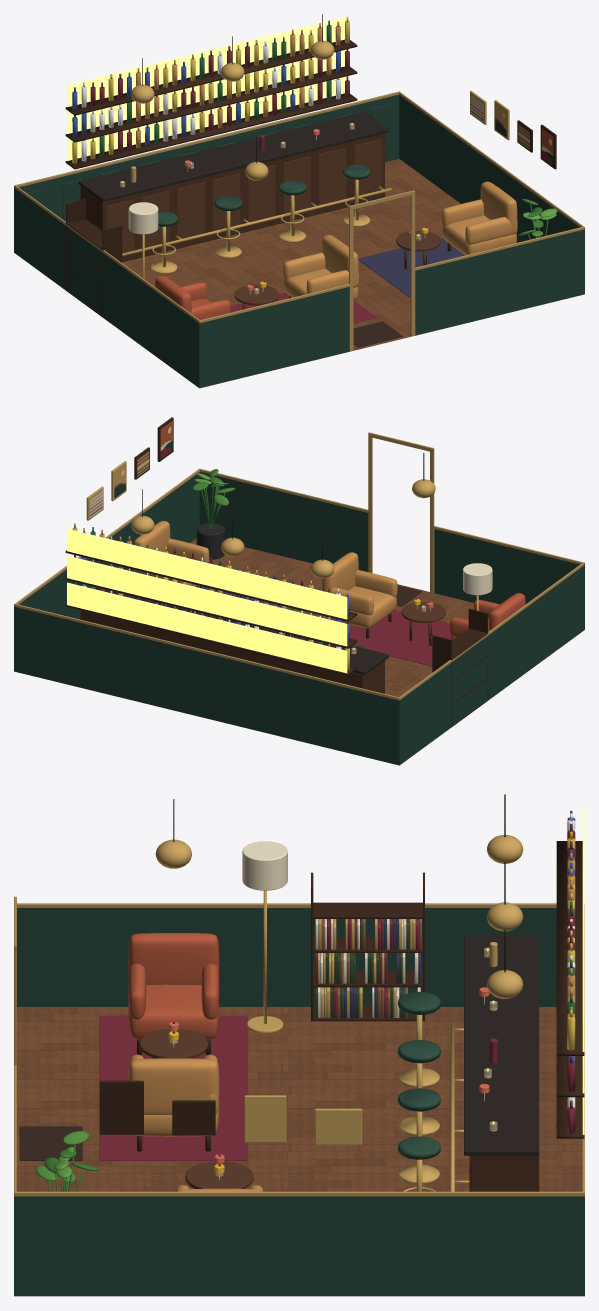
Rendered from place_drinks-Bwn5xce0.glb.
3 renders of one model, top to bottom at view 1: azimuth 30°, elevation 25°; view 2: azimuth 150°, elevation 25°; view 3: azimuth 270°, elevation 25°, orthographic. The views are drawn at different scales.
Visible parts, largest first — view 1: Bar_bar, Wall_shelves_bottle-shelves, Floor_place, Tile_wainscot_west, Tile_wainscot_south1, Tile_wainscot_south0, Wall_shelves_bottle-shelves_glow, Tile_wainscot_east, Tile_wainscot_north, Armchair_armchair-3, Stools_stools, Armchair_armchair-2 (+17 smaller); view 2: Tile_wainscot_north, Wall_shelves_bottle-shelves_glow, Tile_wainscot_west, Tile_wainscot_south1, Tile_wainscot_panels, Tile_wainscot_south0, Floor_place, Bar_bar, Tile_wainscot_east, Wall_shelves_bottle-shelves, Armchair_armchair-2, Rug_rug-1 (+13 smaller); view 3: Tile_wainscot_east, Floor_place, Tile_wainscot_west, Bar_bar, MangaShelf_bookshelf, Rug_rug-1, Armchair_armchair-1, Wall_shelves_bottle-shelves, Wall_frames_frames-east, Stools_stools, Armchair_armchair-2, Tile_rail_east (+11 smaller).
Part boxes in pixels (left/top/right/bottom): Bar_bar: left=78, top=111, right=391, bottom=262; Wall_shelves_bottle-shelves: left=65, top=17, right=357, bottom=169; Floor_place: left=15, top=159, right=584, bottom=388; Tile_wainscot_west: left=14, top=188, right=199, bottom=387; Tile_wainscot_south1: left=415, top=227, right=584, bottom=335; Tile_wainscot_south0: left=199, top=287, right=349, bottom=388; Wall_shelves_bottle-shelves_glow: left=67, top=16, right=346, bottom=160; Tile_wainscot_east: left=399, top=95, right=579, bottom=242; Tile_wainscot_north: left=14, top=95, right=399, bottom=252; Armchair_armchair-3: left=441, top=181, right=517, bottom=255; Stools_stools: left=151, top=164, right=370, bottom=273; Armchair_armchair-2: left=283, top=235, right=358, bottom=300; Tile_wainscot_north: left=14, top=604, right=399, bottom=765; Wall_shelves_bottle-shelves_glow: left=67, top=529, right=347, bottom=673; Tile_wainscot_west: left=399, top=565, right=584, bottom=764; Tile_wainscot_south1: left=199, top=472, right=368, bottom=571; Tile_wainscot_panels: left=24, top=617, right=389, bottom=752; Tile_wainscot_south0: left=434, top=529, right=584, bottom=629; Floor_place: left=15, top=538, right=583, bottom=764; Bar_bar: left=80, top=588, right=388, bottom=693; Tile_wainscot_east: left=19, top=472, right=199, bottom=619; Wall_shelves_bottle-shelves: left=65, top=523, right=357, bottom=675; Armchair_armchair-2: left=321, top=552, right=397, bottom=638; Rug_rug-1: left=326, top=610, right=451, bottom=666; Tile_wainscot_east: left=14, top=1196, right=584, bottom=1296; Floor_place: left=16, top=1007, right=582, bottom=1191; Tile_wainscot_west: left=17, top=908, right=556, bottom=1006; Bar_bar: left=450, top=936, right=539, bottom=1191; MangaShelf_bookshelf: left=311, top=872, right=424, bottom=1021; Rug_rug-1: left=99, top=1015, right=247, bottom=1160; Armchair_armchair-1: left=128, top=933, right=219, bottom=1054; Wall_shelves_bottle-shelves: left=556, top=810, right=584, bottom=1138; Wall_frames_frames-east: left=99, top=1080, right=362, bottom=1144; Stools_stools: left=397, top=991, right=440, bottom=1191; Armchair_armchair-2: left=128, top=1054, right=219, bottom=1151; Tile_rail_east: left=14, top=1191, right=584, bottom=1196.
Bounding box in the file's own units: 6 × 2.8 × 5.
Materials: 60 (5 with a texture image).
